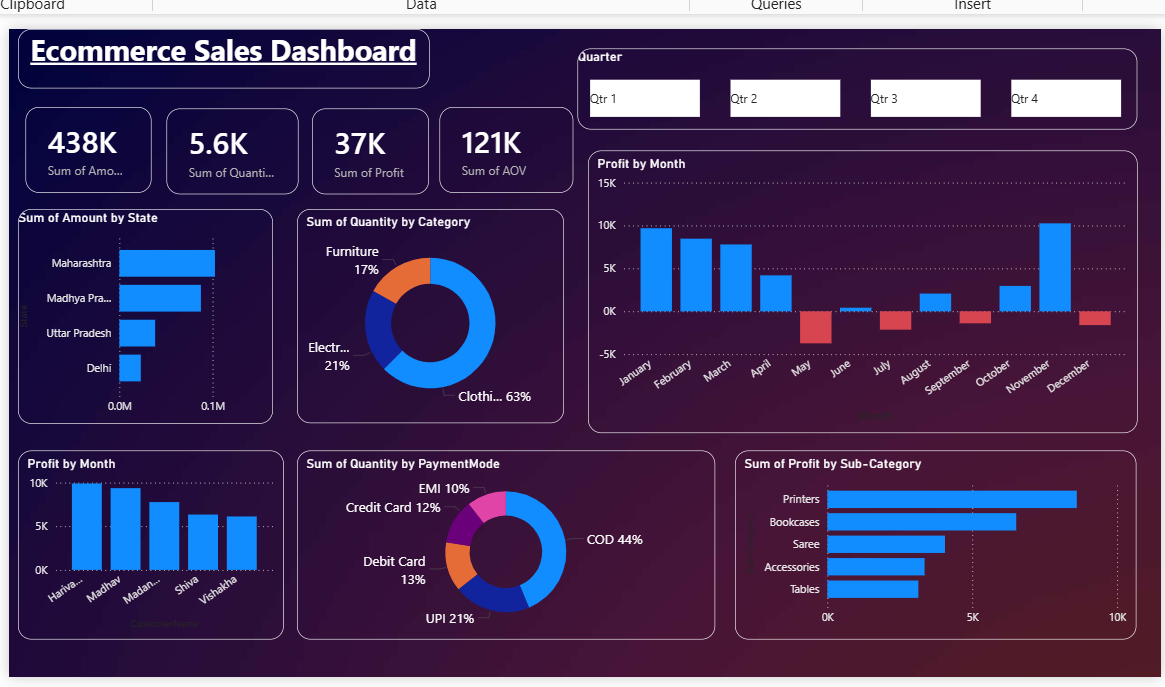

The dashboard page shown, as its layout file describes it:
{"tool":"powerbi","page":{"name":"Page 1","canvas":[1280,720],"ordinal":0},"visuals":[{"type":"textbox","box":[9.4,0,457.3,66.1],"z":0},{"type":"columnChart","title":"Profit by Month","fields":{"Category":["Orders.Order Date.Variation.Date Hierarchy.Month"],"Y":["Sum(Details.Profit)"]},"box":[642.5,134.2,610.4,313.7],"z":1000},{"type":"barChart","fields":{"Category":["Details.Sub-Category"],"Y":["Sum(Details.Profit)"]},"box":[806.9,468.7,446,209.8],"z":2000},{"type":"donutChart","fields":{"Category":["Details.Category"],"Y":["Sum(Details.Quantity)"]},"box":[319.4,200.3,296.7,238.1],"z":3000},{"type":"donutChart","fields":{"Category":["Details.PaymentMode"],"Y":["Sum(Details.Quantity)"]},"box":[319.4,468.7,464.9,209.8],"z":4000},{"type":"cardVisual","fields":{"Data":["Sum(Details.Amount)"]},"box":[18.3,86.7,140,95],"z":5000},{"type":"cardVisual","fields":{"Data":["Sum(Details.Profit)"]},"box":[336.7,88.3,130,95],"z":6000},{"type":"cardVisual","fields":{"Data":["Sum(Details.Quantity)"]},"box":[175,88.3,146.7,95],"z":7000},{"type":"cardVisual","fields":{"Data":["Sum(Details.AOV)"]},"box":[478.3,86.7,148.3,95],"z":8000},{"type":"barChart","fields":{"Category":["Orders.State"],"Y":["Sum(Details.Amount)"]},"box":[10,200,283.3,238.3],"z":8001},{"type":"columnChart","title":"Profit by Month","fields":{"Category":["Orders.CustomerName"],"Y":["Sum(Details.Amount)"]},"box":[10,468.3,295,210],"z":8002},{"type":"advancedSlicerVisual","fields":{"Values":["Orders.Order Date.Variation.Date Hierarchy.Quarter"]},"box":[631.7,21.7,621.7,90],"z":8003}]}

Visuals, with their boxes in screenshot pixels (x1, y1, x2, y2):
textbox: locate(3, 6, 428, 68)
"Profit by Month" columnChart: locate(592, 131, 1160, 423)
barChart - Details.Sub-Category x Sum(Details.Profit): locate(745, 442, 1160, 637)
donutChart - Details.Category x Sum(Details.Quantity): locate(291, 192, 567, 414)
donutChart - Details.PaymentMode x Sum(Details.Quantity): locate(291, 442, 724, 637)
cardVisual - Sum(Details.Amount): locate(11, 87, 141, 175)
cardVisual - Sum(Details.Profit): locate(307, 88, 428, 177)
cardVisual - Sum(Details.Quantity): locate(157, 88, 293, 177)
cardVisual - Sum(Details.AOV): locate(439, 87, 577, 175)
barChart - Orders.State x Sum(Details.Amount): locate(3, 192, 267, 414)
"Profit by Month" columnChart: locate(3, 442, 278, 637)
advancedSlicerVisual - Orders.Order Date.Variation.Date Hierarchy.Quarter: locate(582, 26, 1160, 110)
